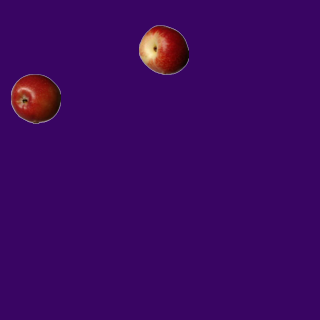Apple Braeburn: (10, 73, 60, 123)
Nectarine: (138, 24, 188, 74)
